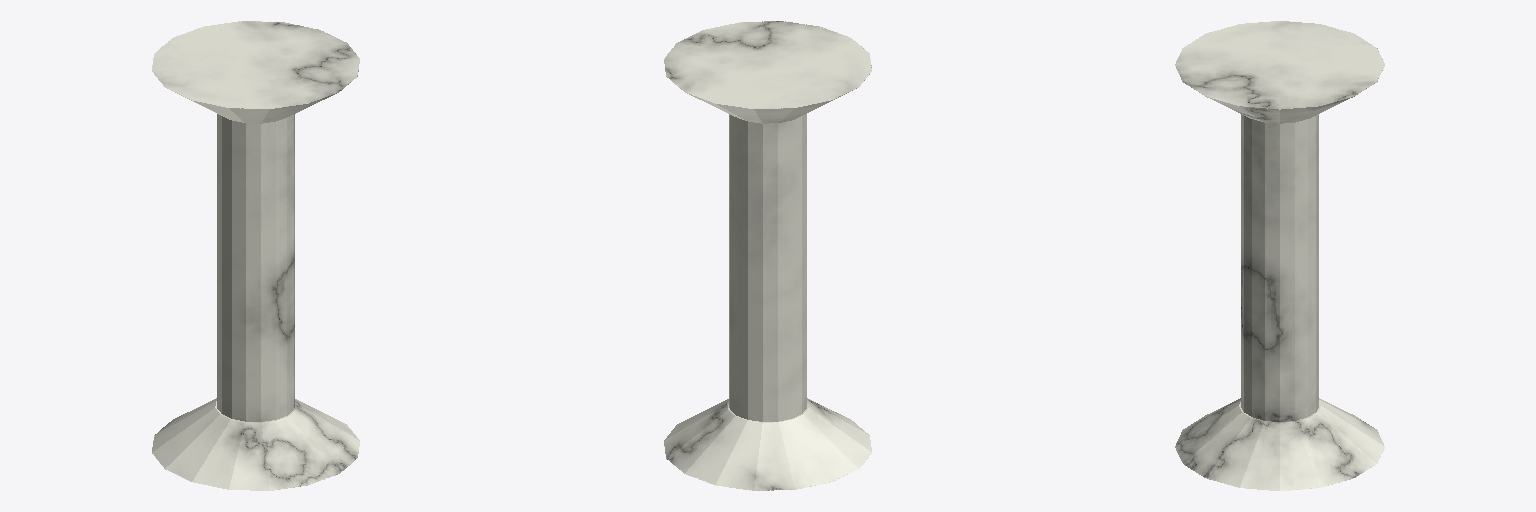
The picture shows the model from 3 angles: view 1: azimuth 30°, elevation 25°; view 2: azimuth 150°, elevation 25°; view 3: azimuth 270°, elevation 25°; orthographic projection.
Visible parts, largest first — view 1: Cylinder5; view 2: Cylinder5; view 3: Cylinder5.
Boxes of the visible parts, x1,y1,x2,y2 form: Cylinder5: [152, 21, 359, 490]; Cylinder5: [664, 21, 871, 490]; Cylinder5: [1175, 21, 1384, 490].
Size of the model in its own units: 2 by 4 by 2.
1 materials, 1 textured.